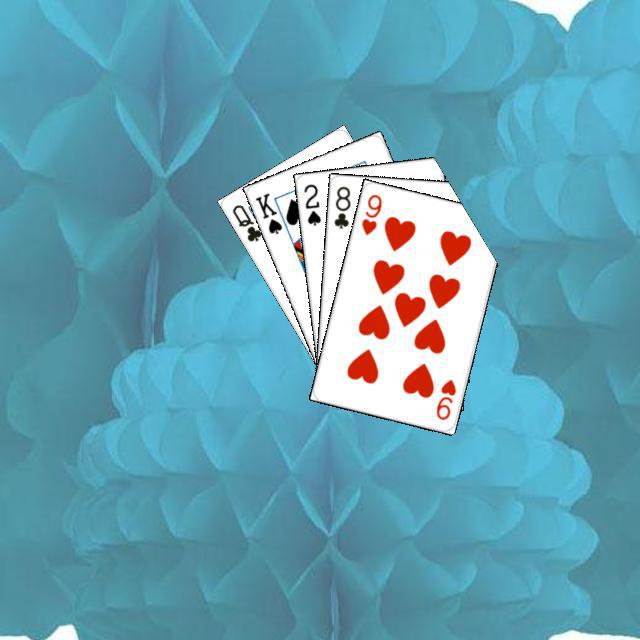2s: (299, 179, 322, 227)
8c: (329, 181, 352, 230)
9h: (431, 374, 458, 422), (357, 189, 383, 237)
Ks: (250, 188, 284, 236)
Qc: (227, 199, 270, 244)
